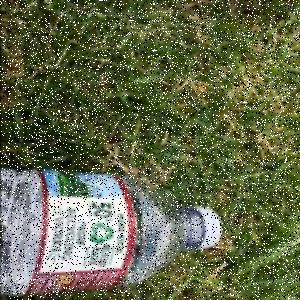Plastic-bottle: (3, 170, 223, 298)
